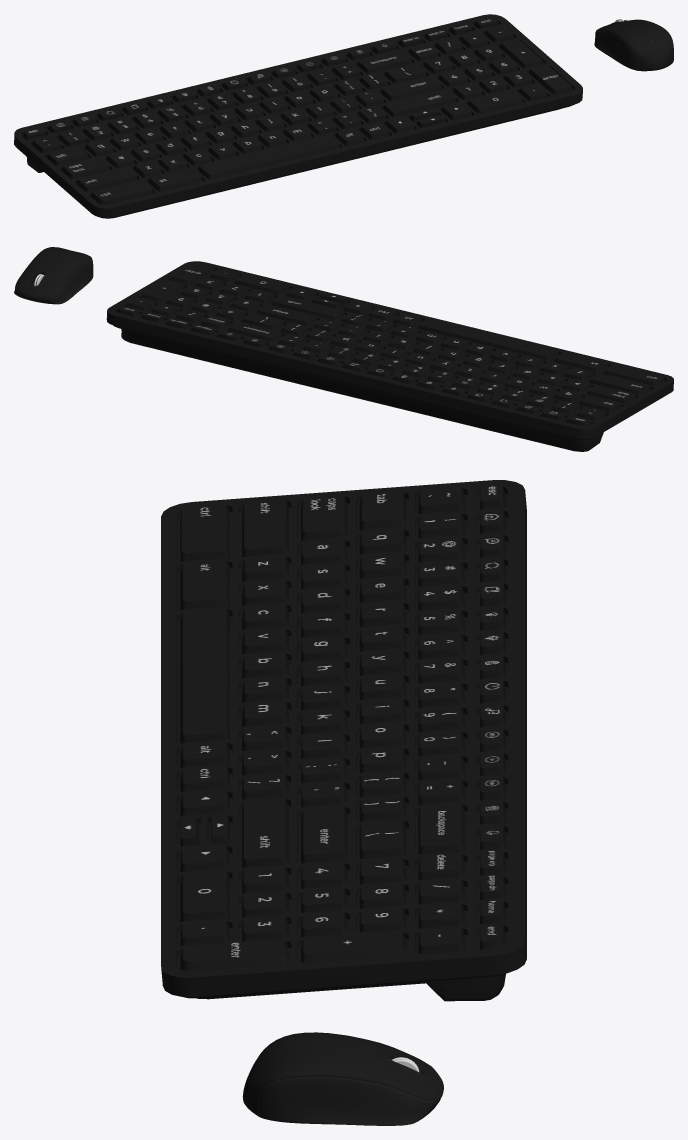
File: Keyboard_Mouse.glb
The picture shows the model from 3 angles, top to bottom: view 1: azimuth 30°, elevation 25°; view 2: azimuth 150°, elevation 25°; view 3: azimuth 270°, elevation 25°; orthographic projection. The views are drawn at different scales.
Visible parts, largest first — view 1: keyboard.001, mouse.001; view 2: keyboard.001, mouse.001; view 3: keyboard.001, mouse.001.
Part boxes in pixels (bbox=[...]): keyboard.001: bbox=[14, 14, 582, 218]; mouse.001: bbox=[594, 19, 673, 71]; keyboard.001: bbox=[106, 261, 673, 451]; mouse.001: bbox=[14, 247, 93, 304]; keyboard.001: bbox=[161, 480, 526, 1001]; mouse.001: bbox=[242, 1032, 443, 1125].
Bounding box in the file's own units: 0.4648 × 0.0233 × 0.1218.
2 materials, 2 textured.
